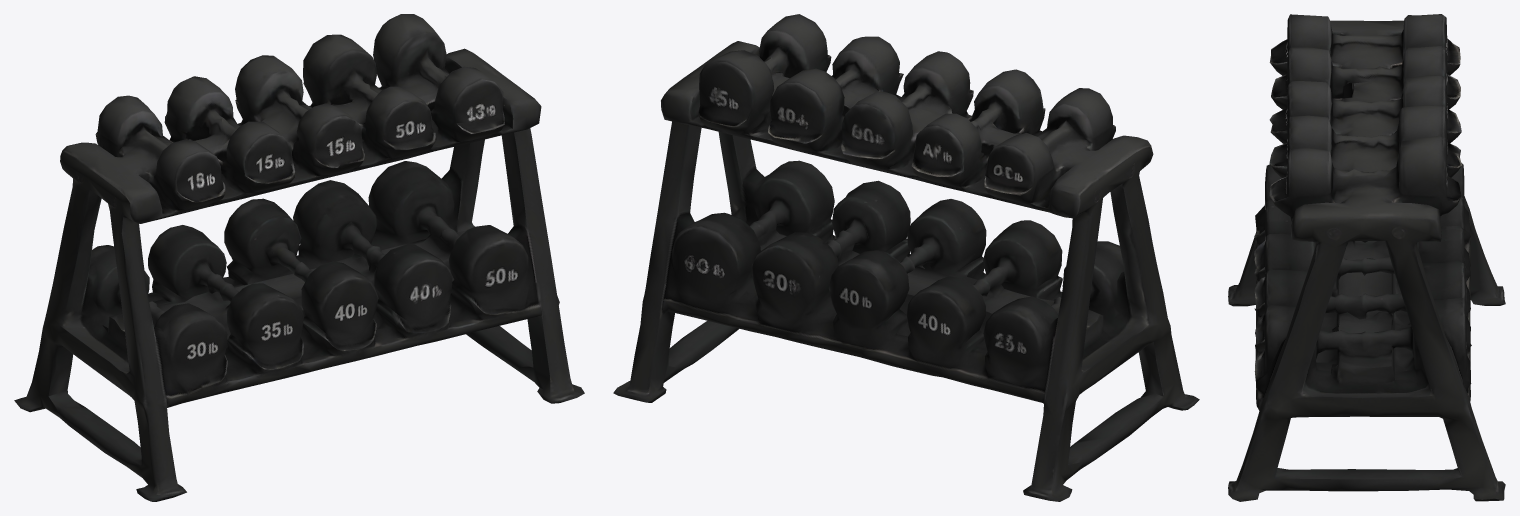
The model's file is dumbbell-rack.glb.
3 views of the same model, side by side, from view 1: azimuth 30°, elevation 25°; view 2: azimuth 150°, elevation 25°; view 3: azimuth 270°, elevation 25° (orthographic). The views are drawn at different scales.
Visible parts, largest first — view 1: input; view 2: input; view 3: input.
Boxes of the visible parts, <box> form: input: <box>14,14,584,501</box>; input: <box>613,14,1199,501</box>; input: <box>1228,14,1505,501</box>.
Bounding box in the file's own units: 1 × 0.7054 × 0.5467.
1 material, 1 textured.
